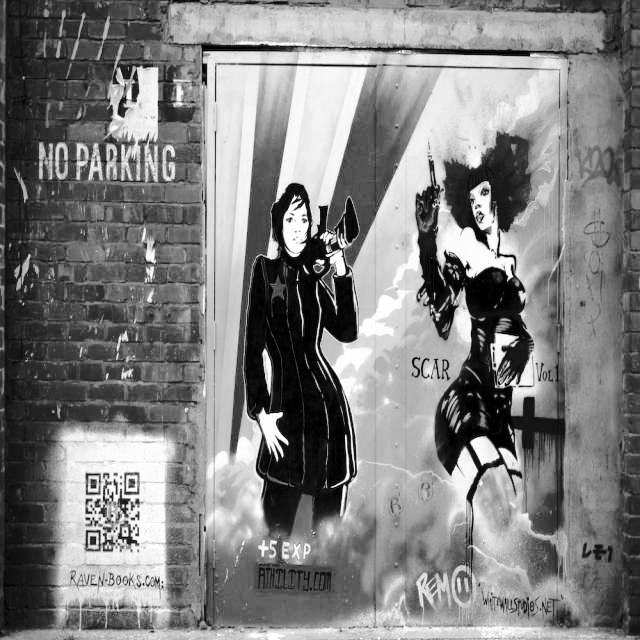qr_code: (85, 473, 139, 552)
